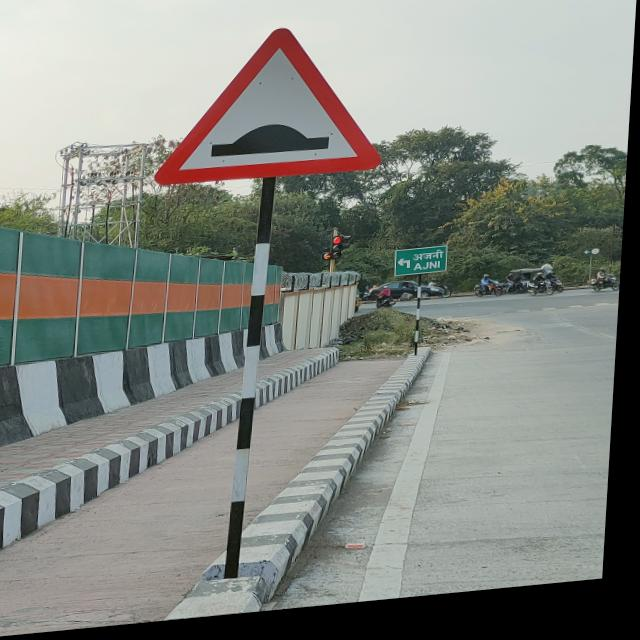BUMPS: (150, 23, 402, 194)
